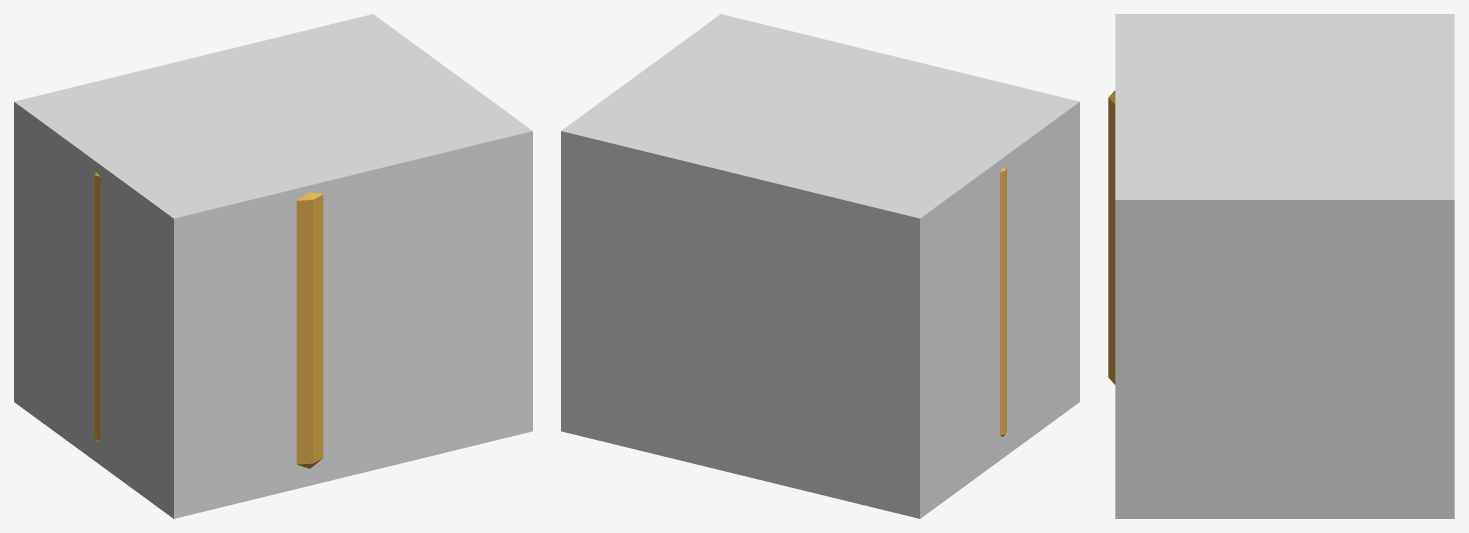
Rendered from mug.glb.
3 renders of one model, left to right at view 1: azimuth 30°, elevation 25°; view 2: azimuth 150°, elevation 25°; view 3: azimuth 270°, elevation 25°, orthographic. The views are drawn at different scales.
Visible parts, largest first — view 1: Mug_col, Mug; view 2: Mug_col, Mug; view 3: Mug_col, Mug.
Part boxes in pixels (x1,y1,x2,y2): Mug_col: (14, 14, 532, 518); Mug: (94, 172, 323, 468); Mug_col: (561, 14, 1079, 518); Mug: (1000, 167, 1006, 436); Mug_col: (1115, 14, 1454, 518); Mug: (1108, 90, 1115, 385).
Bounding box in the file's own units: 0.6843 × 0.5459 × 0.5346.
